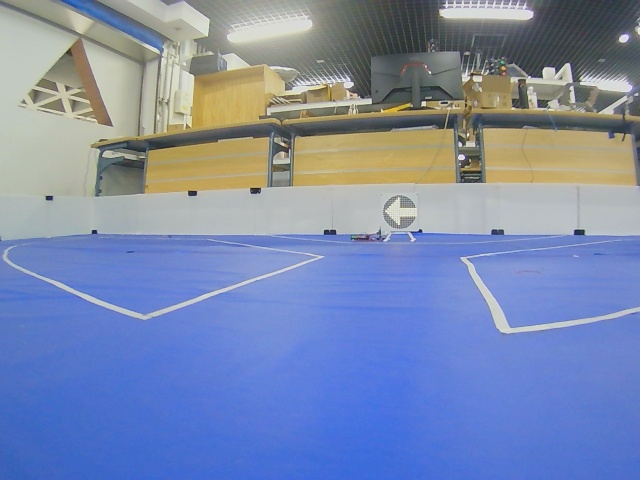left_yellow: (383, 195, 417, 229)
